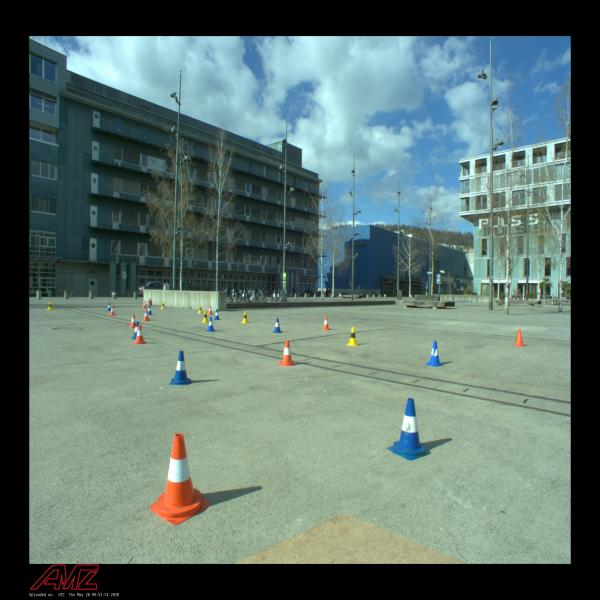blue_cone: (386, 397, 431, 461), (169, 350, 193, 386), (425, 340, 444, 367), (131, 321, 139, 340), (206, 317, 216, 332), (273, 318, 283, 333), (213, 309, 220, 320), (147, 305, 153, 315), (107, 302, 111, 311)
orange_cone: (148, 432, 210, 525), (278, 340, 296, 366), (132, 324, 146, 344), (512, 329, 526, 347), (128, 314, 136, 328), (322, 316, 330, 330), (142, 310, 151, 322), (109, 306, 116, 315), (207, 306, 213, 314), (142, 301, 147, 308)
yellow_cone: (346, 326, 360, 346), (202, 311, 210, 323), (242, 311, 249, 324), (47, 302, 53, 310), (198, 305, 203, 314), (160, 302, 166, 309)
